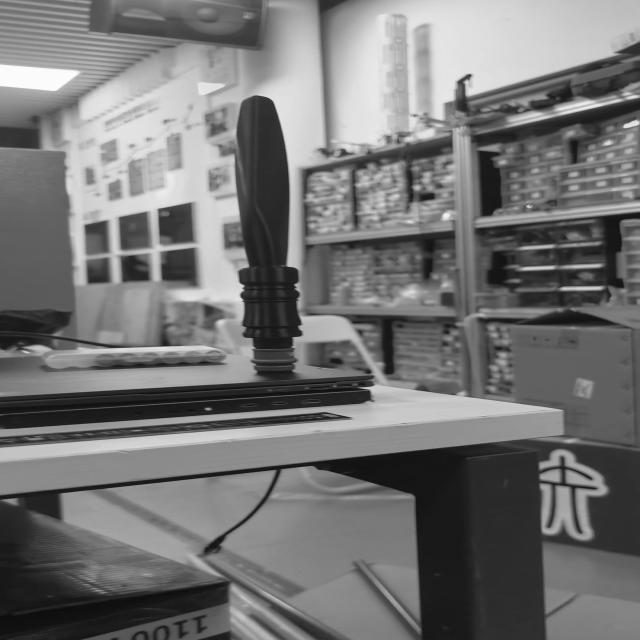base: (247, 344, 306, 378)
